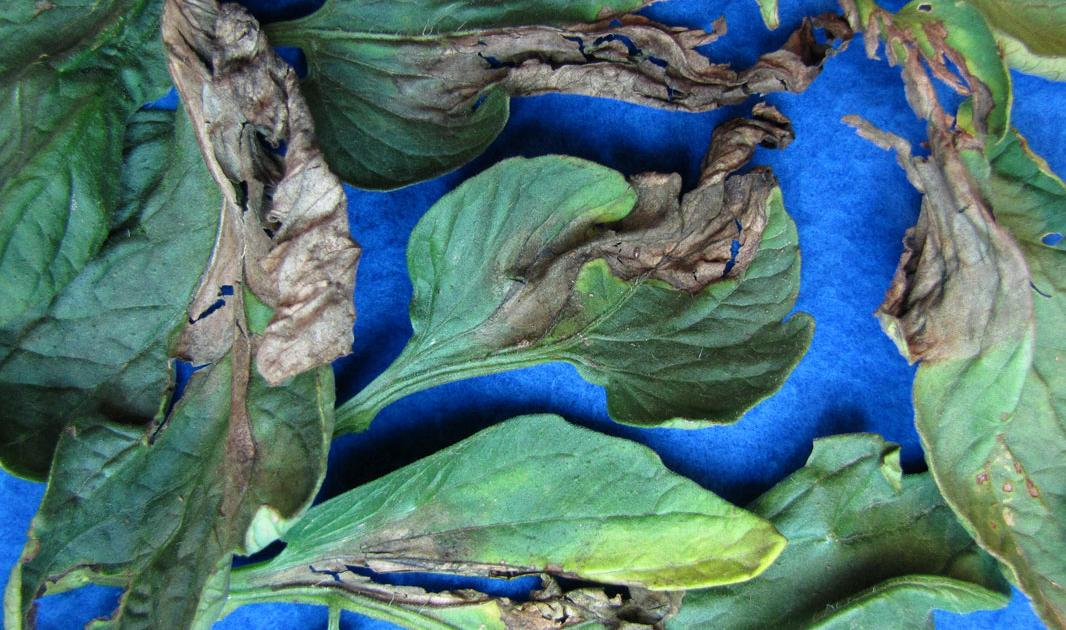Tomato leaf late blight: (0, 58, 365, 630), (357, 155, 828, 435), (852, 30, 1066, 630), (225, 0, 823, 198), (221, 420, 760, 630)
